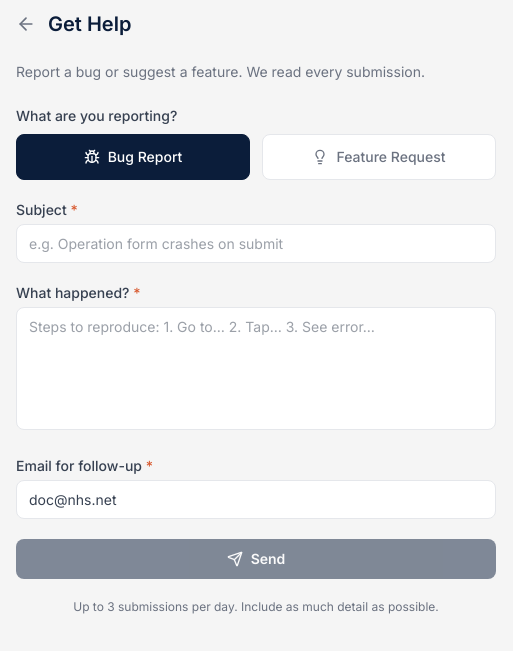
SupportPage › accessibility › shows inline validation errors with role="alert"
Type "hi" into the field labelled "Subject *" at (256, 244), box 16,224 -> 496,263
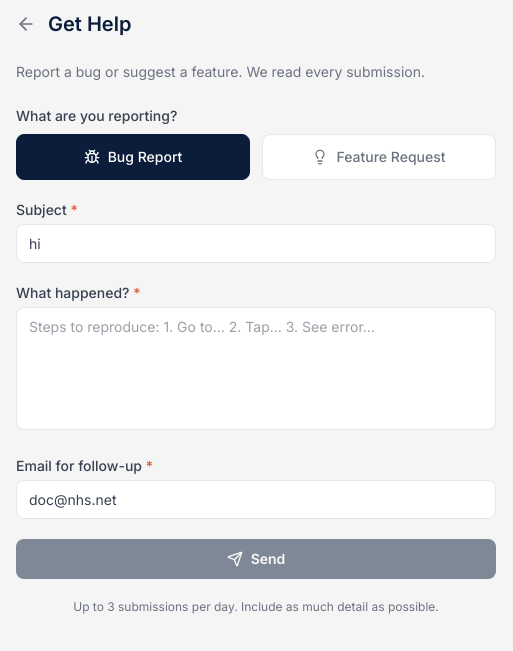
Leave the field labelled "Subject *", box 16,224 -> 496,263
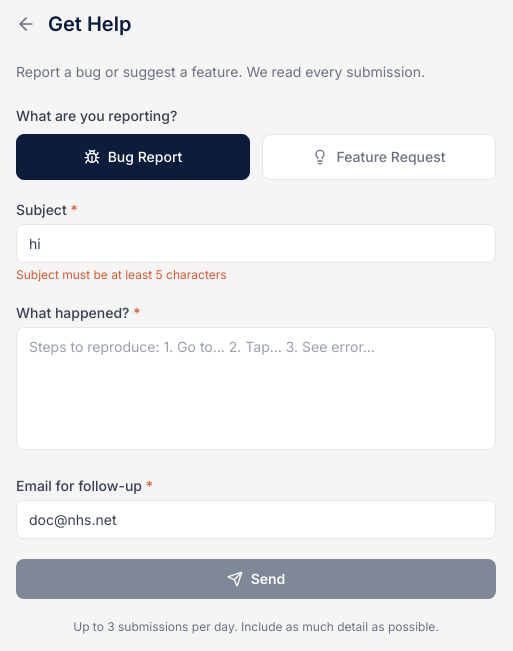
Expected: the message "Subject must be at least 5 characters" is shown, 16,267 -> 226,282
